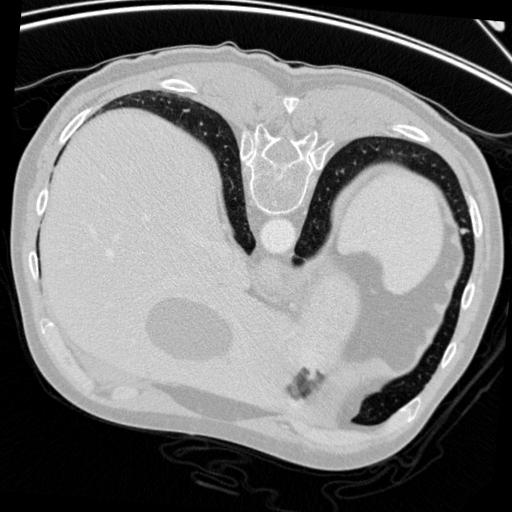nodule: (457, 227, 469, 239)
